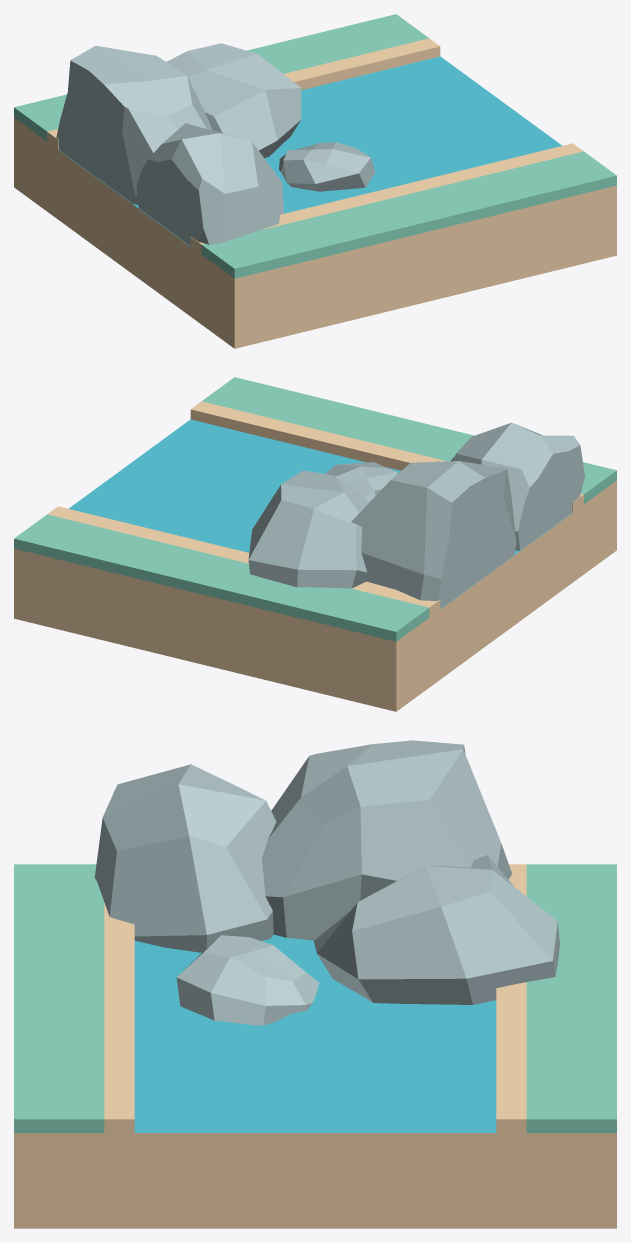
Rendered from Water_Source_with_stones.fbx.
3 views of the same model, one above another, from view 1: azimuth 30°, elevation 25°; view 2: azimuth 150°, elevation 25°; view 3: azimuth 270°, elevation 25° (orthographic). The views are drawn at different scales.
Parts seen in each view (by area): view 1: Water_Source_with_stones; view 2: Water_Source_with_stones; view 3: Water_Source_with_stones.
Part boxes in pixels (x1,y1,x2,y2): Water_Source_with_stones: (14, 14, 616, 348); Water_Source_with_stones: (14, 377, 616, 711); Water_Source_with_stones: (14, 740, 616, 1228).
Bounding box in the file's own units: 1 × 0.4417 × 1.
